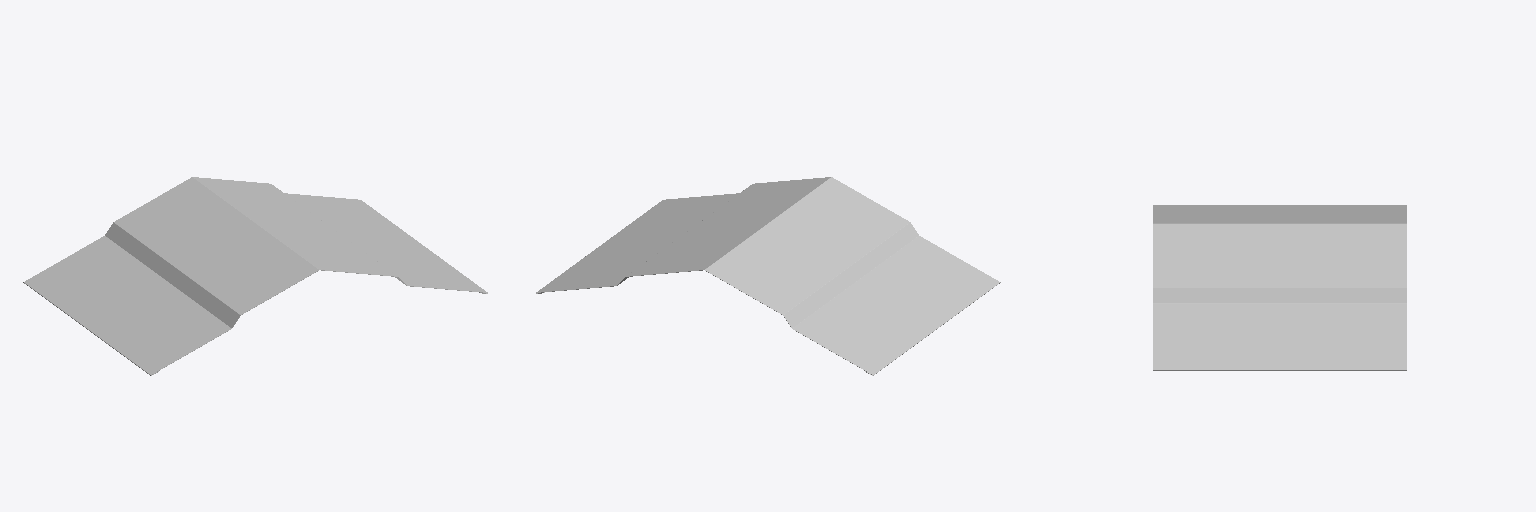
The picture shows the model from 3 angles: view 1: azimuth 30°, elevation 25°; view 2: azimuth 150°, elevation 25°; view 3: azimuth 270°, elevation 25°; orthographic projection.
Visible parts, largest first — view 1: Body1; view 2: Body1; view 3: Body1.
Boxes of the visible parts, x1,y1,x2,y2 form: Body1: [23, 177, 487, 375]; Body1: [536, 177, 1000, 375]; Body1: [1153, 205, 1406, 370].
Size of the model in its own units: 467 by 85.82 by 305.